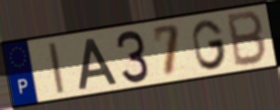3: (114, 28, 150, 85)
7: (151, 21, 186, 79)
A: (77, 36, 119, 91)
B: (226, 9, 269, 69)
G: (190, 17, 229, 71)
I: (45, 40, 67, 96)
